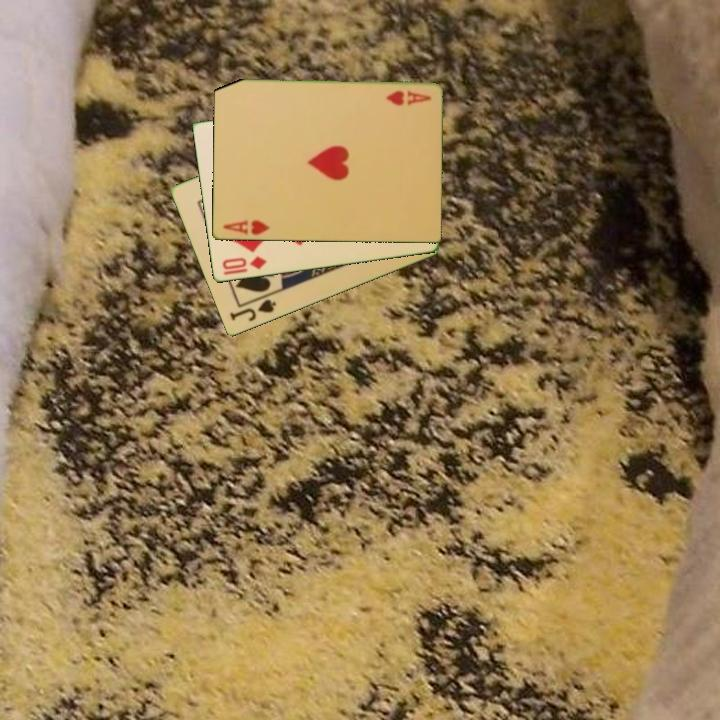10d: (218, 252, 269, 273)
Ah: (219, 217, 272, 238), (382, 88, 433, 107)
Js: (226, 296, 279, 325)
